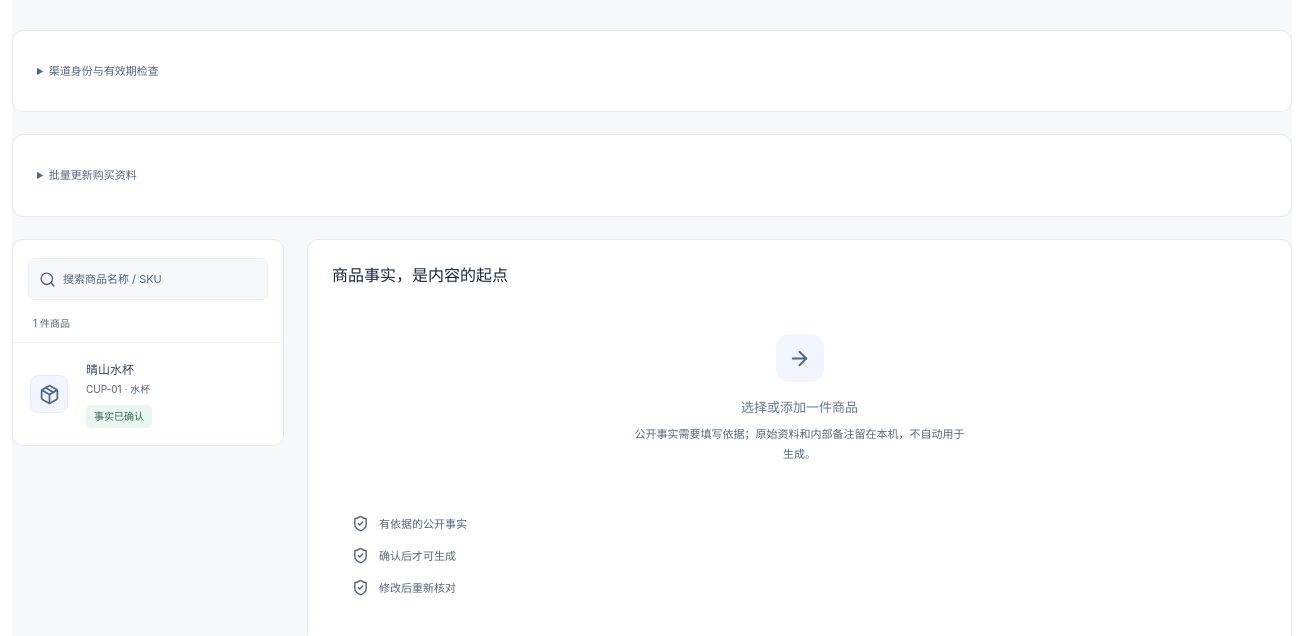
native workflow UI › requires saving changed facts before confirming the saved version
Click the button "晴山水杯 CUP-01 · 水杯 事实已确认" at [148, 394], box [13,342,283,445]
(page scrolled)
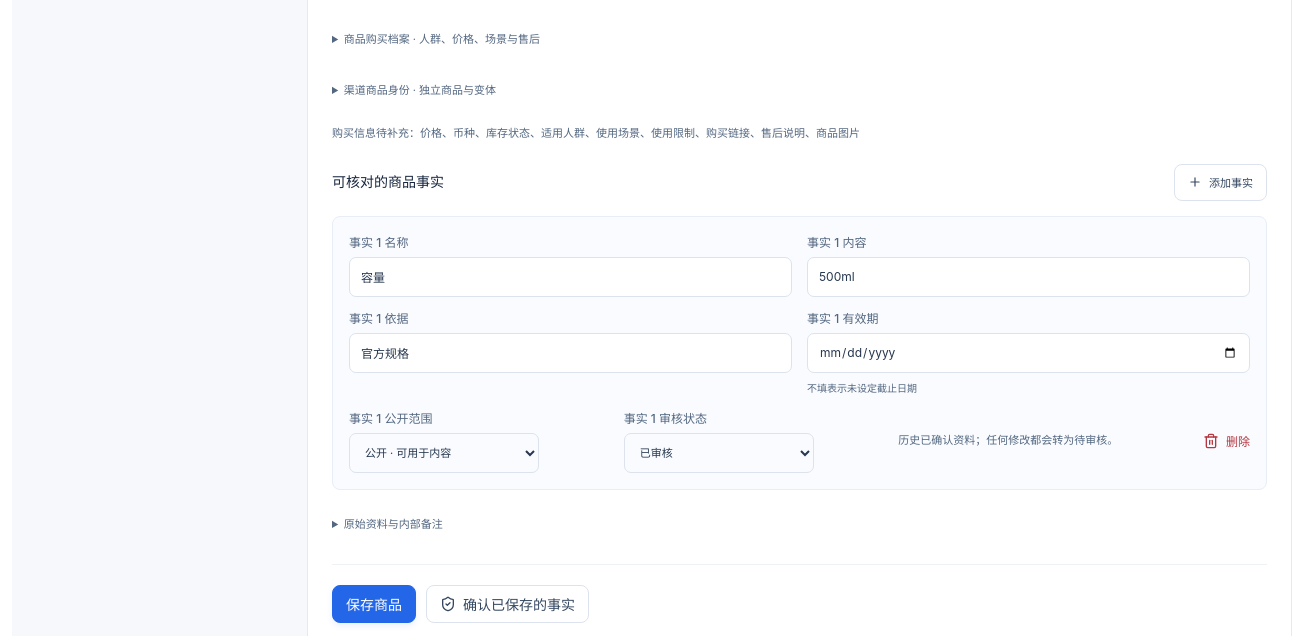
Expected: the button "确认已保存的事实" is enabled, [426,585,589,623]
Replace the text in the field labelled "事实 1 内容" with "600ml" at [1028, 277], box [807,257,1250,297]
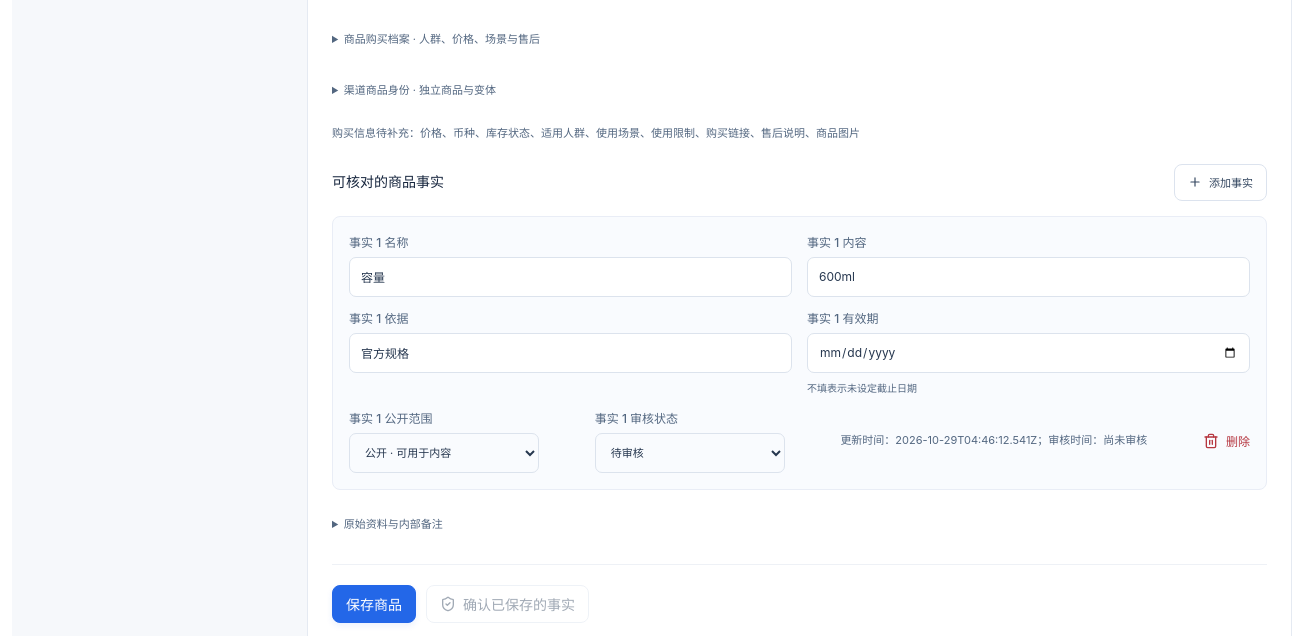
Expected: the button "确认已保存的事实" is disabled, [426,585,589,623]
